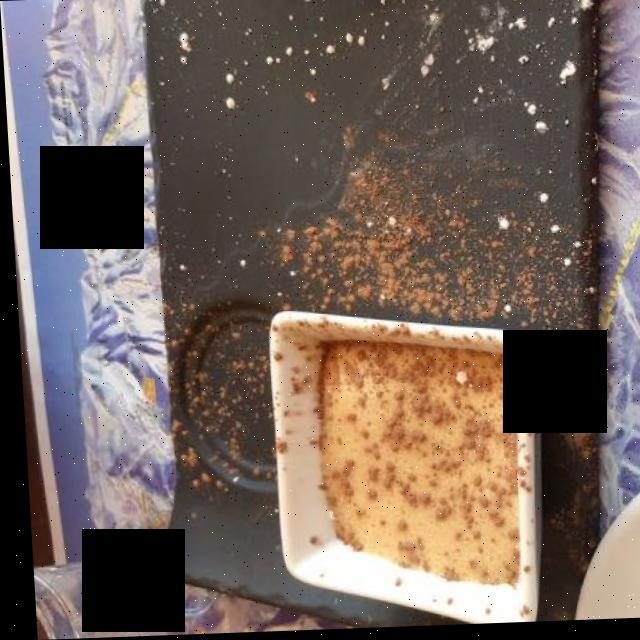tiramisu: (316, 341, 517, 583)
